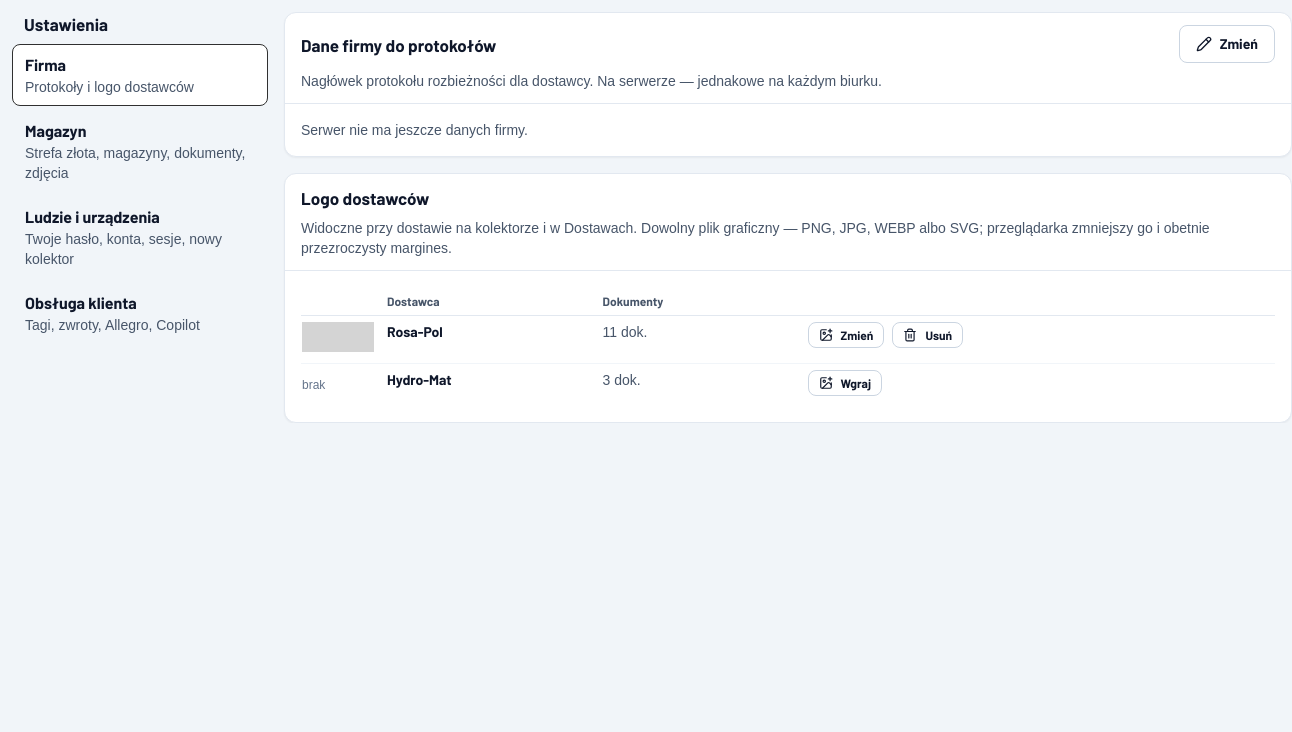
Scenario: Ustawienia w panelu › biuro nie widzi konfiguracji i nawet o nią nie pyta
expect the text "Rosa-Pol" is shown: met, box [386,316,602,364]
Click the button "Obsługa klienta Tagi, zwroty, Allegro, Copilot". click: (140, 313)
box: [12,282,268,344]
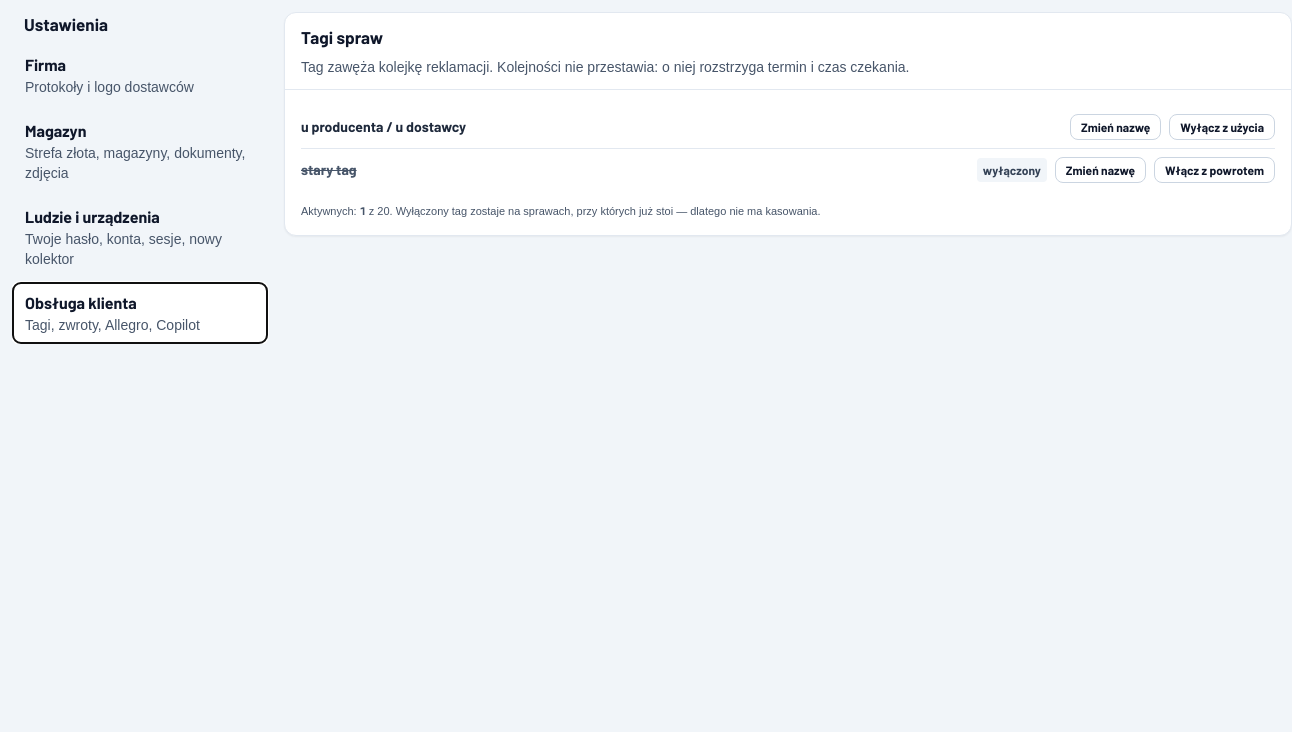
expect the text "u producenta / u dostawcy" is shown: met, box [301,117,466,137]
Click the button "Ludzie i urządzenia Twoje hasło, konta, sesje, nowy kolektor". click: (140, 237)
box: [12,196,268,278]
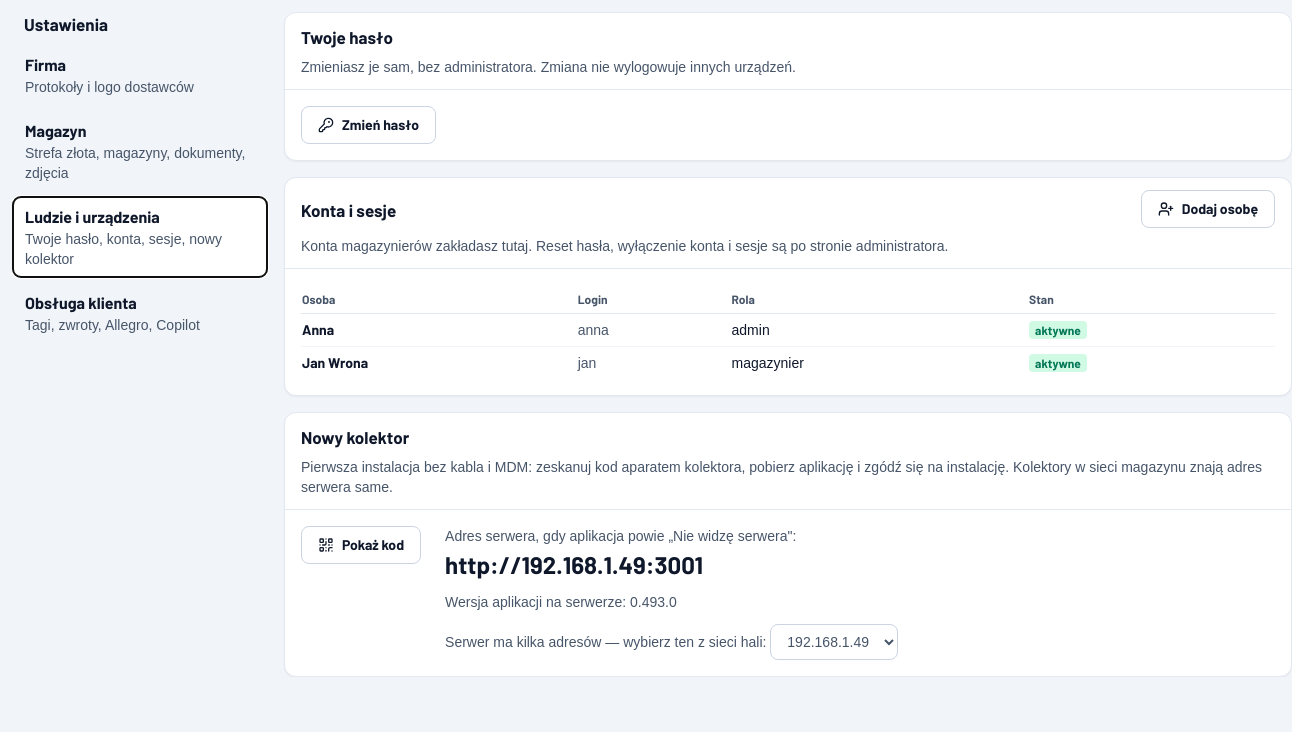
expect the text "Jan Wrona" is shown: met, box [301,346,577,379]
